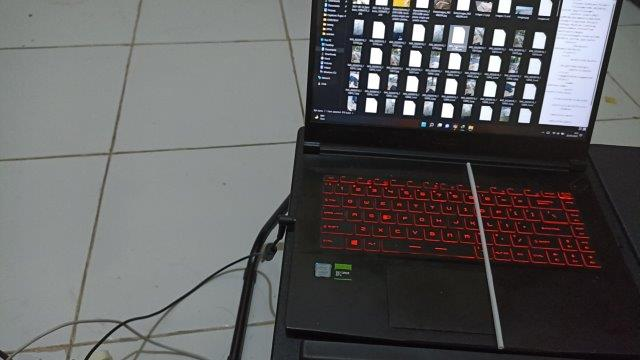sedotan: (467, 163, 504, 348)
